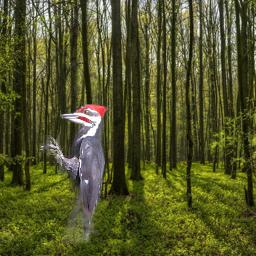Woodpecker: (38, 104, 109, 243)
